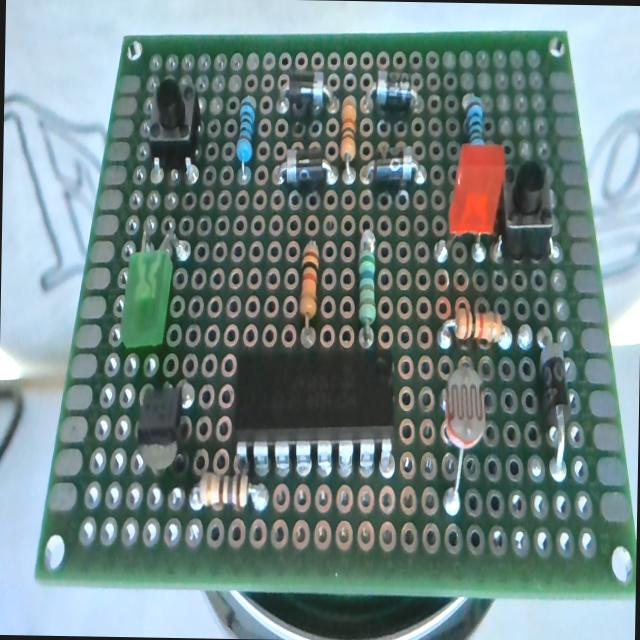IC: (218, 338, 407, 474)
cds: (424, 364, 492, 518)
diode: (532, 318, 574, 484), (362, 73, 432, 125), (362, 143, 430, 195), (276, 68, 338, 120), (272, 148, 336, 190)
led: (118, 200, 186, 352), (435, 142, 501, 274)
resistor: (186, 472, 274, 530), (436, 302, 526, 354), (352, 230, 389, 345), (228, 78, 262, 194), (293, 238, 330, 344), (338, 72, 360, 186), (462, 86, 492, 145)
switch: (503, 147, 568, 268), (143, 86, 210, 172)
transistor: (119, 372, 204, 468)
